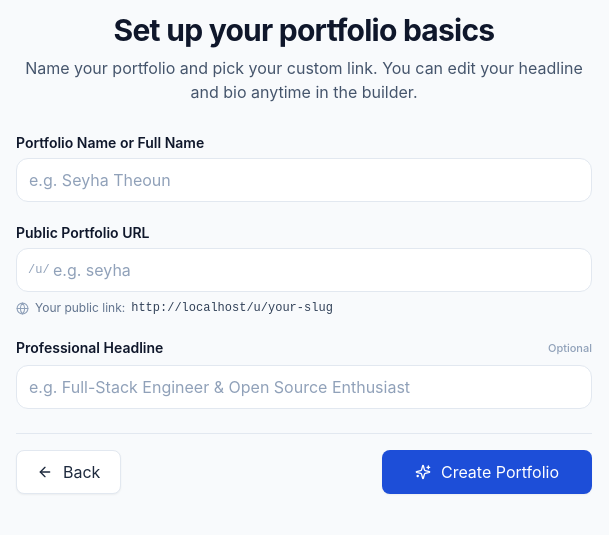
Test: Portfolio Onboarding Flow › Step 3: PortfolioBasicsStep › validates required portfolio name and slug
Click the button "Create Portfolio": (487, 472) left=382, top=450, right=592, bottom=494
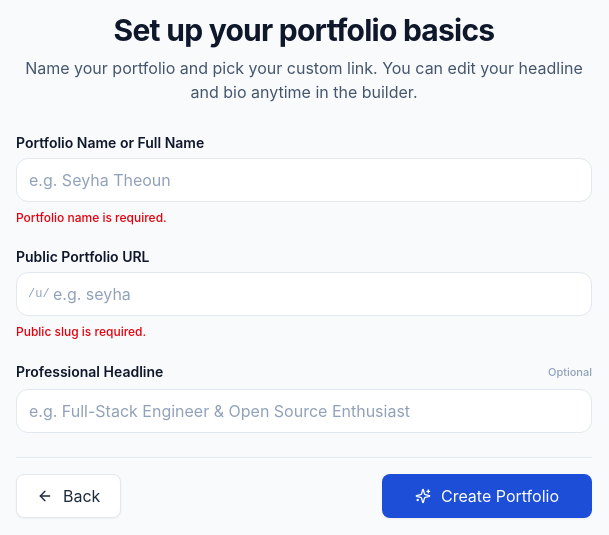
Expected: the text "Portfolio name is required." is shown, left=16, top=210, right=167, bottom=225
